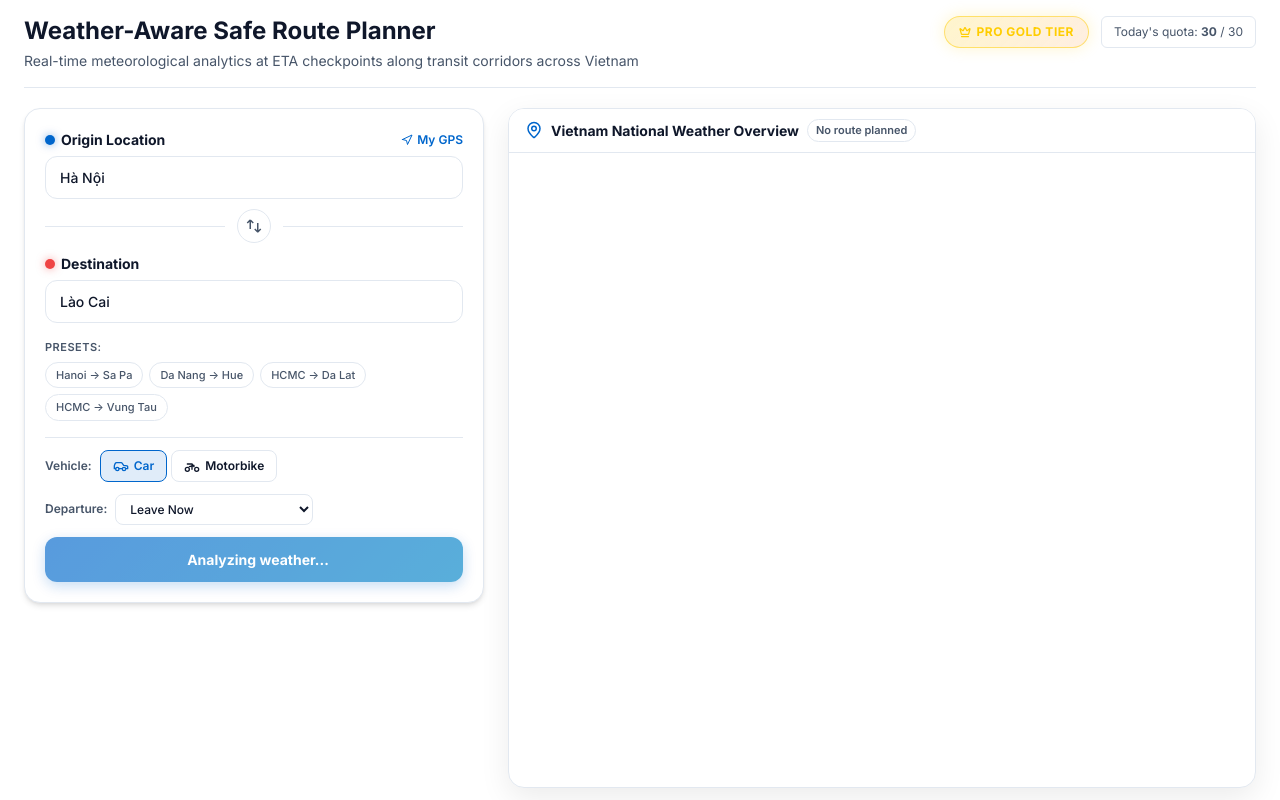
Test case: route request inputs › ignores an earlier request failure after the input changes
Replace the text in the field with placeholder "Enter origin (e.g., Hanoi)..." below "Origin Location" with "Huế" at point(254, 178), box [60, 167, 448, 188]
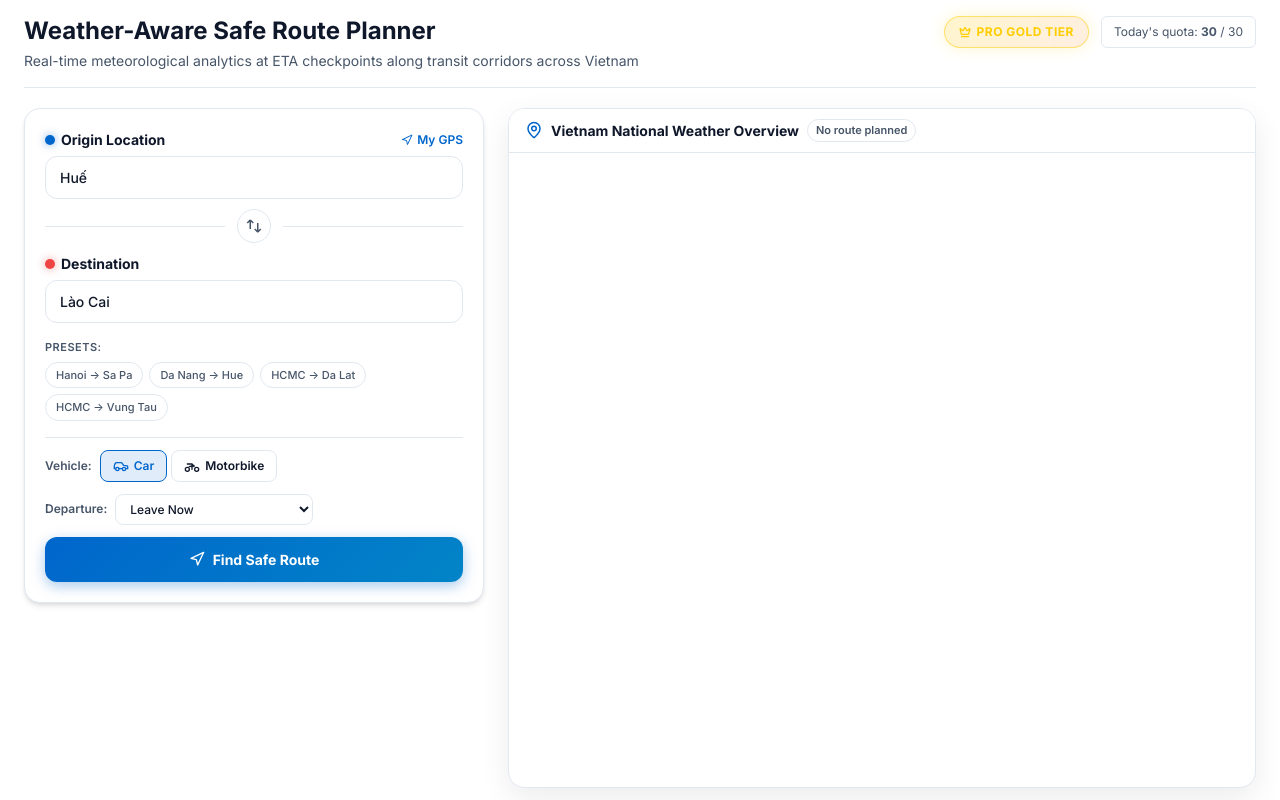
Check: the button "Find Safe Route" is enabled, box [45, 536, 463, 582]
